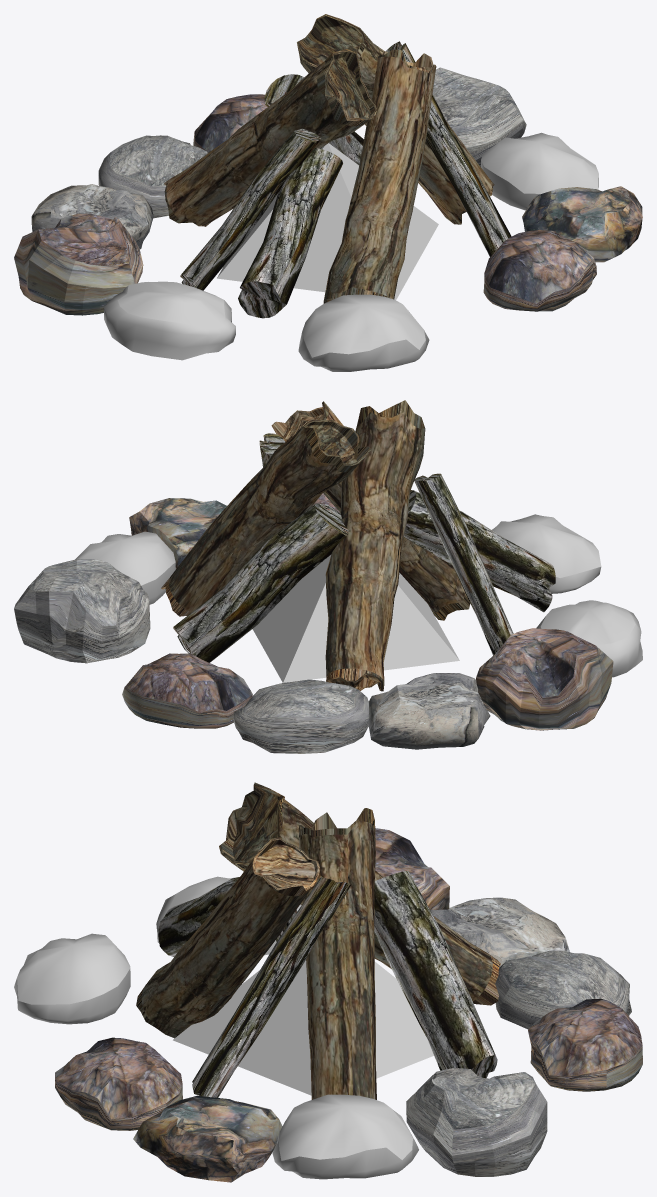
File: BonfireSpawn.fbx
3 renders of one model, top to bottom at view 1: azimuth 30°, elevation 25°; view 2: azimuth 150°, elevation 25°; view 3: azimuth 270°, elevation 25°, orthographic. The views are drawn at different scales.
Visible parts, largest first — view 1: pCylinder24, pCylinder27, pCylinder23, pCylinder20, pCylinder16, pCylinder5, pCylinder14, pPyramid1, pCube1, pCylinder10, pCylinder26, pCylinder6 (+6 smaller); view 2: pCylinder27, pCylinder26, pCylinder22, pCylinder23, pCylinder1, pPyramid1, pCylinder21, pCube2, pCylinder9, pCylinder5, pCylinder6, pCylinder24 (+4 smaller); view 3: pCylinder26, pCylinder24, pCylinder22, pCylinder1, pPyramid1, pCylinder10, pCube1, pCylinder9, pCylinder14, pCylinder16, pCylinder7, pCylinder21 (+5 smaller).
Part boxes in pixels (x1,y1,x2,y2): pCylinder24: [323, 49, 436, 303]; pCylinder27: [164, 49, 377, 226]; pCylinder23: [14, 213, 143, 315]; pCylinder20: [104, 281, 235, 360]; pCylinder16: [298, 294, 429, 371]; pCylinder5: [238, 148, 342, 318]; pCylinder14: [483, 230, 596, 311]; pPyramid1: [217, 143, 438, 299]; pCube1: [522, 186, 642, 262]; pCylinder10: [481, 132, 598, 210]; pCylinder26: [297, 14, 494, 224]; pCylinder6: [180, 128, 320, 290]; pCylinder27: [325, 400, 425, 691]; pCylinder26: [161, 419, 371, 616]; pCylinder22: [14, 559, 150, 663]; pCylinder23: [476, 628, 613, 730]; pCylinder1: [173, 503, 348, 662]; pPyramid1: [252, 554, 459, 682]; pCylinder21: [233, 679, 368, 753]; pCube2: [368, 673, 490, 749]; pCylinder9: [122, 653, 252, 728]; pCylinder5: [404, 490, 555, 612]; pCylinder6: [414, 473, 513, 655]; pCylinder24: [271, 401, 470, 620]; pCylinder26: [298, 808, 376, 1099]; pCylinder24: [136, 837, 320, 1038]; pCylinder22: [406, 1067, 547, 1176]; pCylinder1: [374, 871, 497, 1078]; pPyramid1: [173, 960, 433, 1095]; pCylinder10: [272, 1094, 418, 1179]; pCube1: [133, 1096, 282, 1182]; pCylinder9: [528, 998, 642, 1091]; pCylinder14: [55, 1037, 182, 1130]; pCylinder16: [14, 933, 130, 1024]; pCylinder7: [192, 877, 350, 1097]; pCylinder21: [495, 950, 631, 1029].
Bounding box in the file's own units: 5.3 × 2.24 × 4.8.
